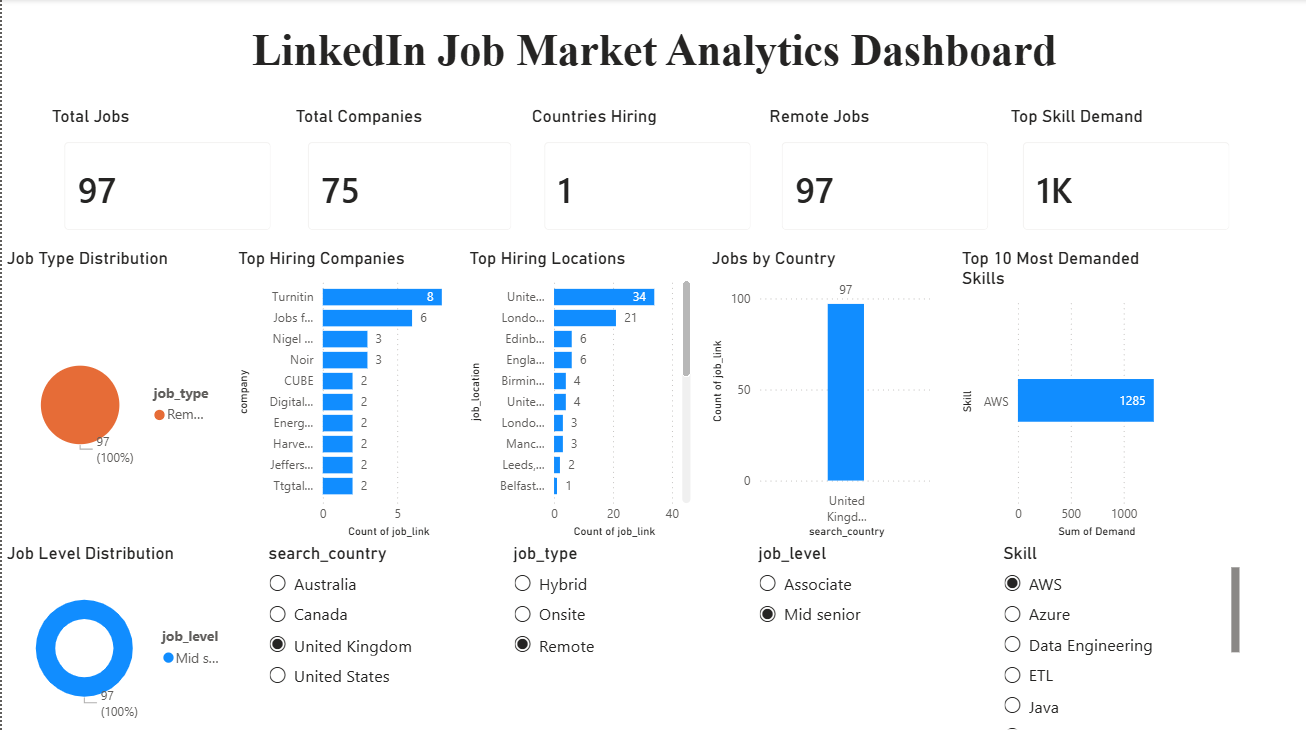

Layout of this report page (visuals, bound fields, positions):
{"tool":"powerbi","page":{"name":"Dashboard","canvas":[1280,720],"ordinal":0},"visuals":[{"type":"cardVisual","title":"Total Jobs","fields":{"Data":["CountNonNull(cleaned_jobs.job_link)"]},"box":[43.8,103.8,236.2,140],"z":0},{"type":"cardVisual","title":"Total Companies","fields":{"Data":["Count(cleaned_jobs.company)"]},"box":[282.5,103.8,233.8,140],"z":1000},{"type":"cardVisual","title":"Countries Hiring","fields":{"Data":["Count(cleaned_jobs.search_country)"]},"box":[513.8,103.8,236.2,140],"z":2000},{"type":"cardVisual","title":"Remote Jobs","fields":{"Data":["CountNonNull(cleaned_jobs.job_link)"]},"box":[746.2,103.8,236.2,140],"z":3000},{"type":"pieChart","title":"Job Type Distribution","fields":{"Y":["CountNonNull(cleaned_jobs.job_type)"],"Category":["cleaned_jobs.job_type"]},"box":[0,243.8,226.2,288.8],"z":5000},{"type":"clusteredBarChart","title":"Top Hiring Companies","fields":{"Category":["cleaned_jobs.company"],"Y":["CountNonNull(cleaned_jobs.job_link)"]},"box":[226.2,243.8,226.2,288.8],"z":6000},{"type":"clusteredBarChart","title":"Top Hiring Locations","fields":{"Category":["cleaned_jobs.job_location"],"Y":["CountNonNull(cleaned_jobs.job_link)"]},"box":[452.5,243.8,226.2,288.8],"z":7000},{"type":"clusteredColumnChart","title":"Jobs by Country","fields":{"Category":["cleaned_jobs.search_country"],"Y":["CountNonNull(cleaned_jobs.job_link)"]},"box":[690,243.8,226.2,288.8],"z":8000},{"type":"donutChart","title":"Job Level Distribution","fields":{"Category":["cleaned_jobs.job_level"],"Y":["CountNonNull(cleaned_jobs.job_link)"]},"box":[0,532.5,227.5,187.5],"z":9000},{"type":"listSlicer","fields":{"Values":["cleaned_jobs.search_country"]},"box":[255,532.5,240,187.5],"z":10000},{"type":"listSlicer","fields":{"Values":["cleaned_jobs.job_type"]},"box":[495,532.5,240,187.5],"z":11000},{"type":"listSlicer","fields":{"Values":["cleaned_jobs.job_level"]},"box":[735,532.5,240,187.5],"z":12000},{"type":"textbox","box":[123.5,20.6,1029.2,61.7],"z":13000},{"type":"clusteredBarChart","title":"Top 10 Most Demanded Skills","fields":{"Category":["top_skills.Skill"],"Y":["Sum(top_skills.Demand)"]},"box":[933.8,243.8,226.2,288.8],"z":14000},{"type":"cardVisual","title":"Top Skill Demand","fields":{"Data":["Max(top_skills.Demand)"]},"box":[982.5,103.8,236.2,140],"z":15000},{"type":"listSlicer","fields":{"Values":["top_skills.Skill"]},"box":[975,532.5,241.2,187.5],"z":16000}]}

Visuals, with their boxes in screenshot pixels (x1, y1, x2, y2), scaled from the page's 1280x720 canvas onto the 1306x732 screenshot:
"Total Jobs" cardVisual: 45:106:286:248
"Total Companies" cardVisual: 288:106:527:248
"Countries Hiring" cardVisual: 524:106:765:248
"Remote Jobs" cardVisual: 761:106:1002:248
"Job Type Distribution" pieChart: 0:248:231:541
"Top Hiring Companies" clusteredBarChart: 231:248:462:541
"Top Hiring Locations" clusteredBarChart: 462:248:692:541
"Jobs by Country" clusteredColumnChart: 704:248:935:541
"Job Level Distribution" donutChart: 0:541:232:731
listSlicer - cleaned_jobs.search_country: 260:541:505:731
listSlicer - cleaned_jobs.job_type: 505:541:750:731
listSlicer - cleaned_jobs.job_level: 750:541:995:731
textbox: 126:21:1176:84
"Top 10 Most Demanded Skills" clusteredBarChart: 953:248:1184:541
"Top Skill Demand" cardVisual: 1002:106:1243:248
listSlicer - top_skills.Skill: 995:541:1241:731
